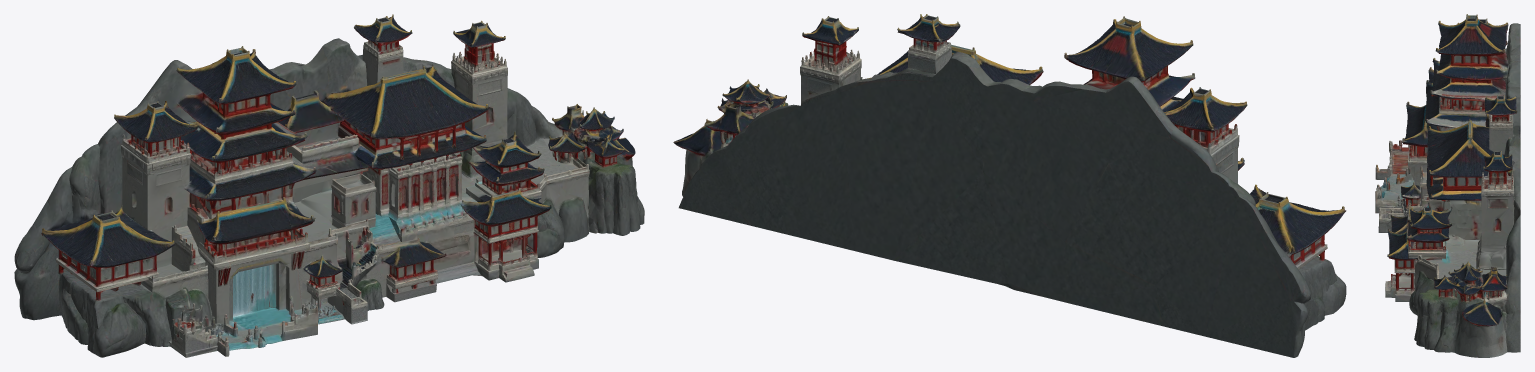
File: cliff_palace.hd.glb
3 renders of one model, left to right at view 1: azimuth 30°, elevation 25°; view 2: azimuth 150°, elevation 25°; view 3: azimuth 270°, elevation 25°, orthographic. The views are drawn at different scales.
Bounding box in the file's own units: 1.9 × 0.7405 × 0.5153.
1 material, 1 textured.
